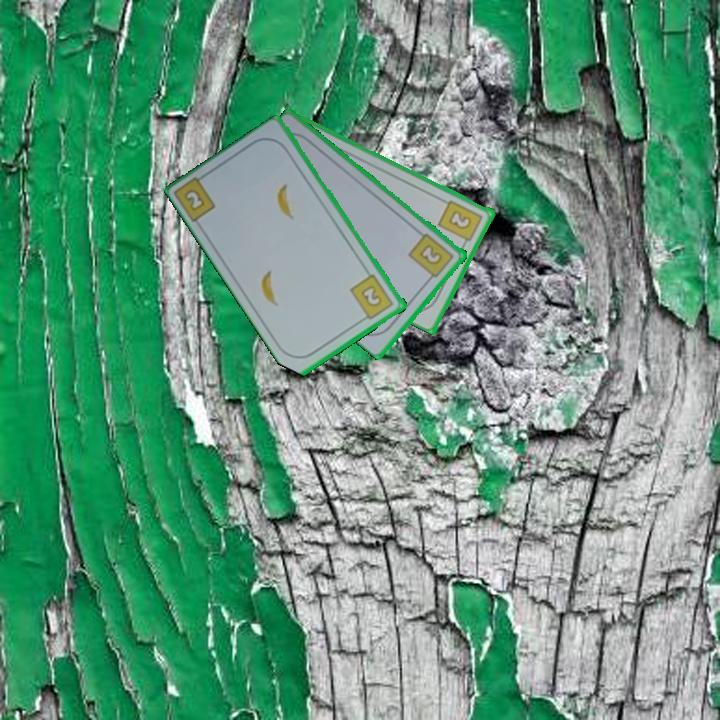2b: (405, 230, 457, 284), (435, 196, 486, 249), (172, 169, 219, 226), (347, 271, 397, 324)
